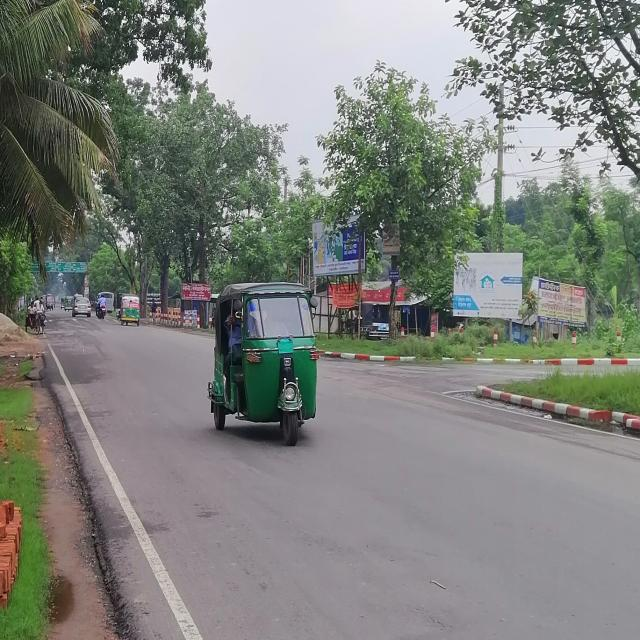CNG: (232, 282, 329, 450)
